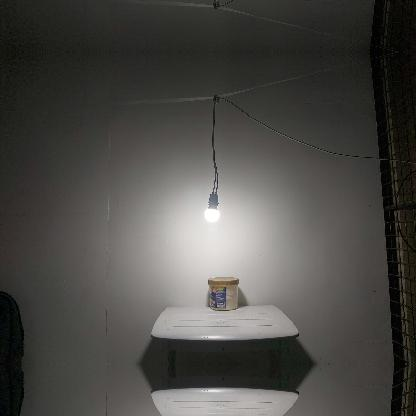Lady-s-Choice: (208, 276, 238, 310)
